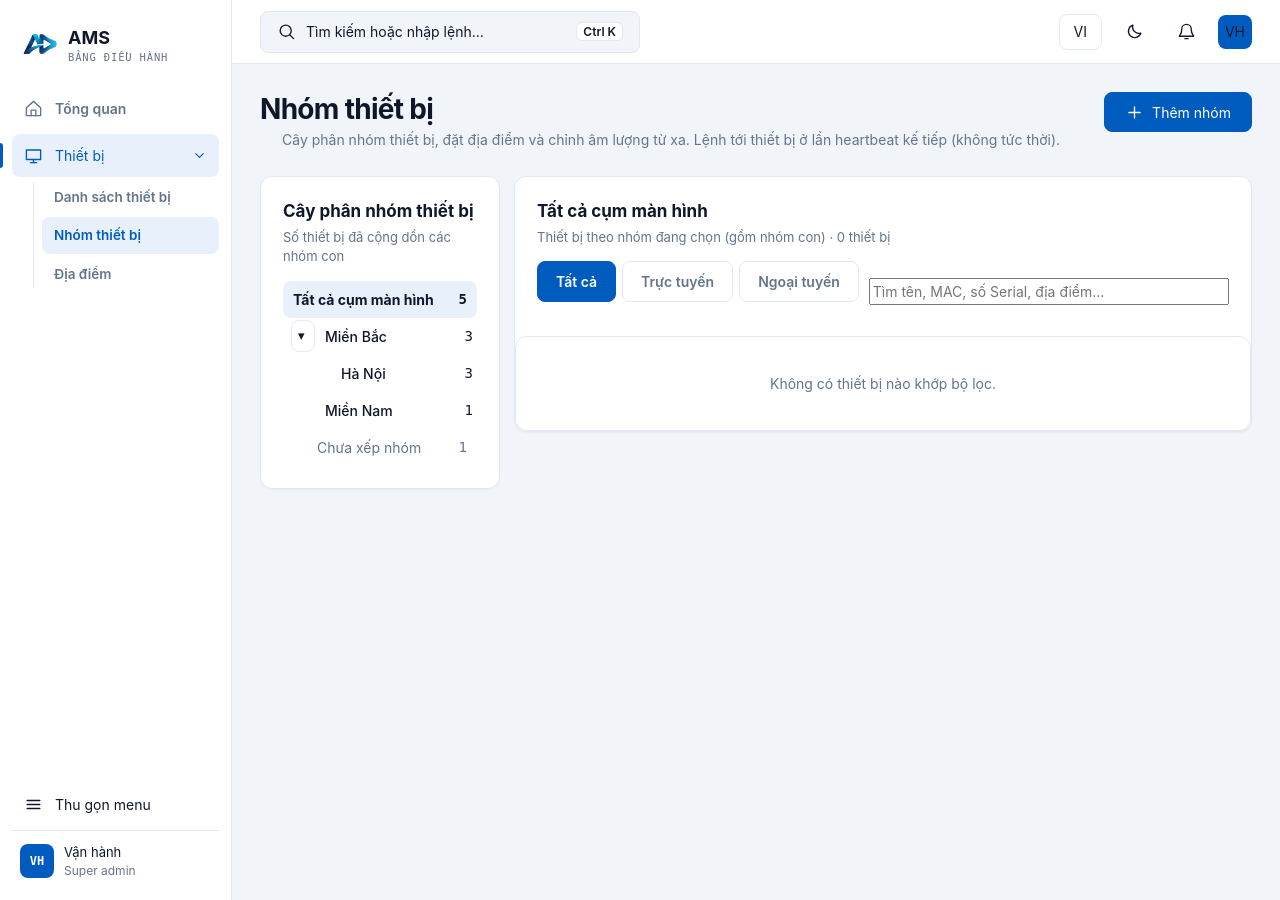
Test: d-tree: trang Nhóm thiết bị › lỗi máy chủ trùng tên hiện tiếng Việt
The width and height of the screenshot is (1280, 900).
Click the button "Thêm nhóm".
click(1178, 112)  # box 1104,92 -> 1252,132
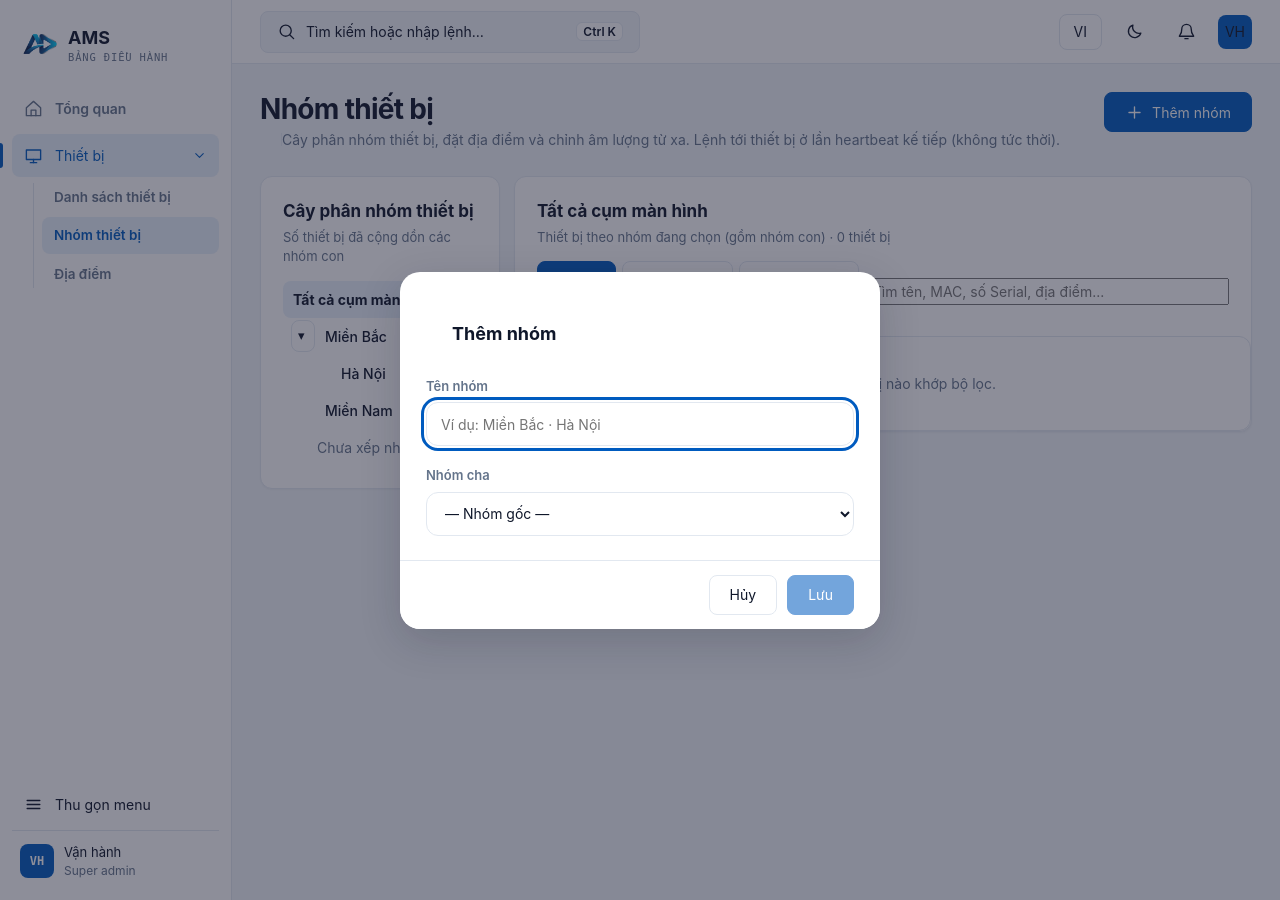
Type "Miền Bắc" into the field labelled "Tên nhóm".
click(640, 424); type("Miền Bắc")  # box 426,402 -> 854,446
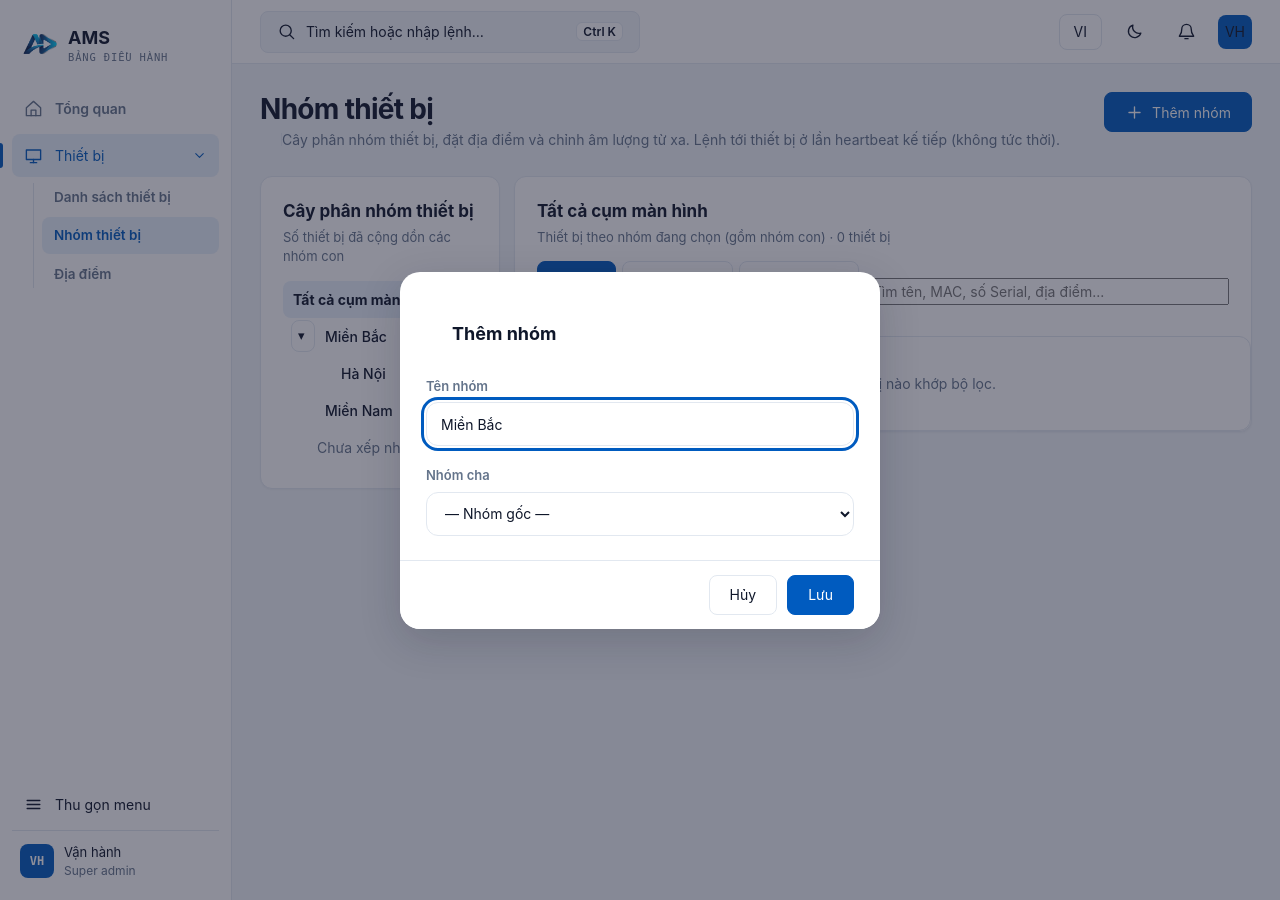
Click the button "Lưu".
click(821, 594)  # box 787,574 -> 854,614
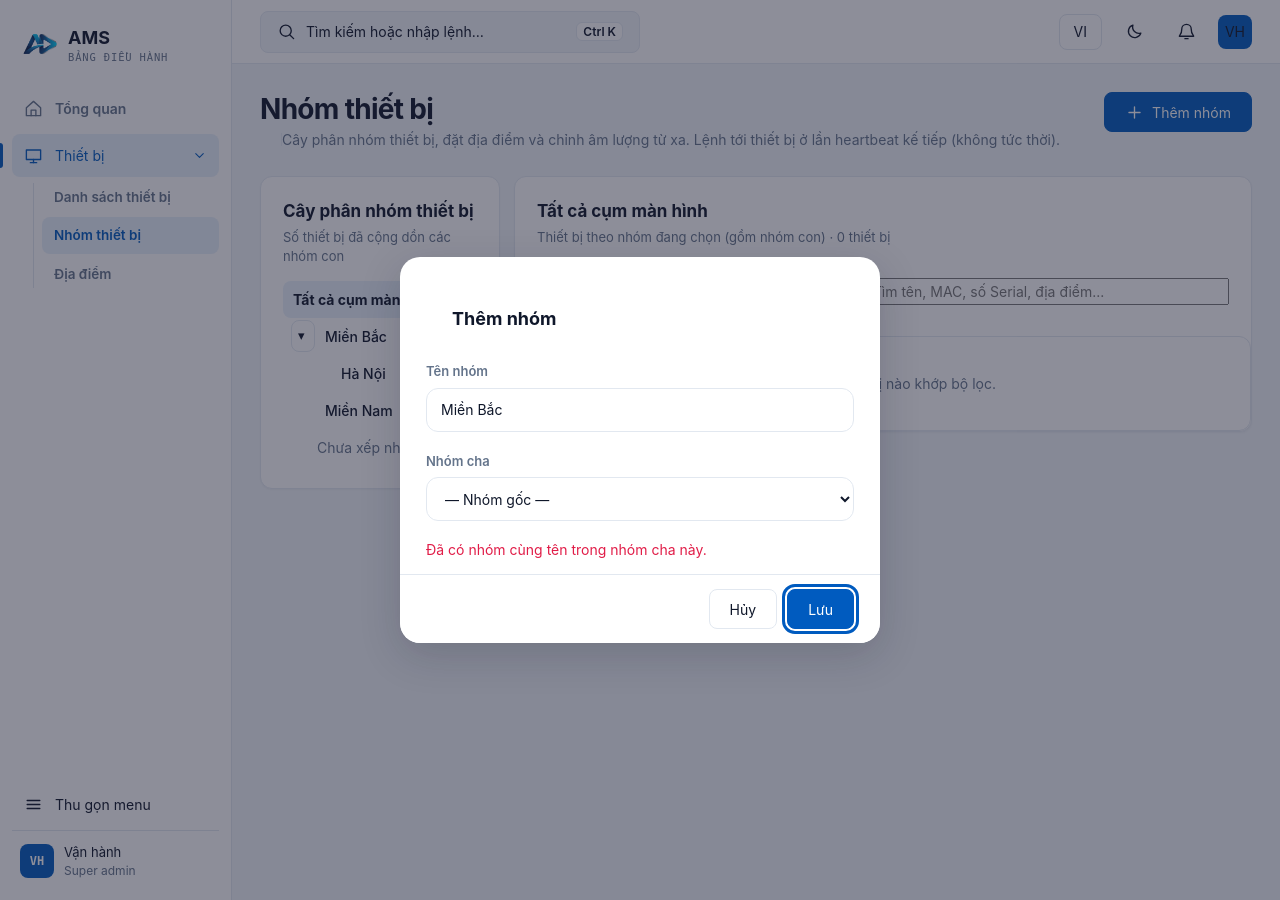
Check: the text "Đã có nhóm cùng tên trong nhóm cha này." is shown, box 426,541 -> 707,558
